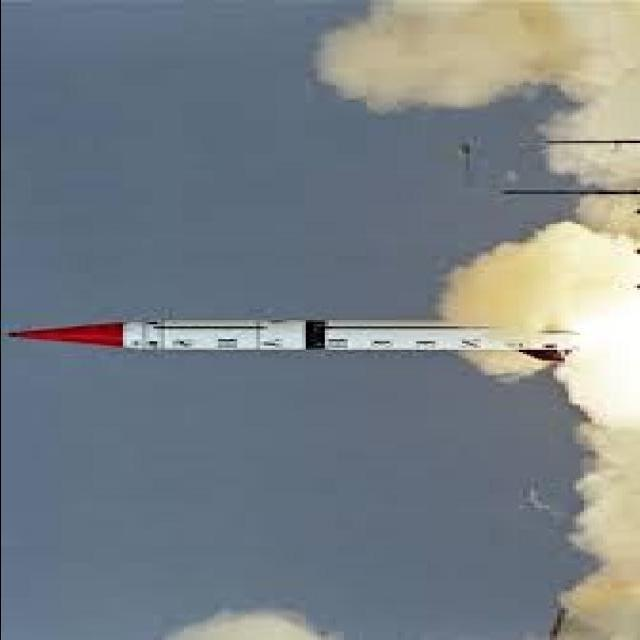missile: (6, 313, 562, 368)
